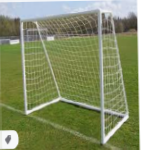goals: (18, 7, 130, 144)
